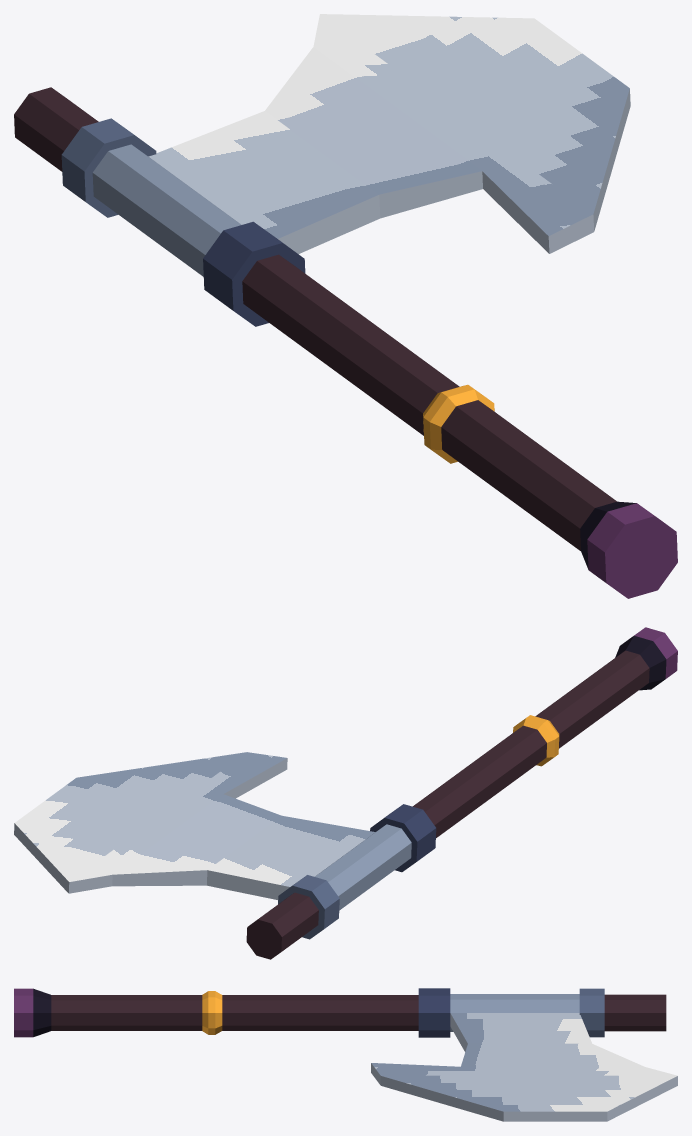
The model's file is axe.glb.
The picture shows the model from 3 angles, top to bottom: view 1: azimuth 30°, elevation 25°; view 2: azimuth 150°, elevation 25°; view 3: azimuth 270°, elevation 25°; orthographic projection. The views are drawn at different scales.
Visible parts, largest first — view 1: Axe; view 2: Axe; view 3: Axe.
Boxes of the visible parts, box(x1,y1,x2,y2) form: Axe: box(14, 14, 677, 598); Axe: box(14, 627, 677, 959); Axe: box(14, 988, 677, 1121).
Size of the model in its own units: 0.677 by 0.1051 by 1.5.
Materials: 1 (1 with a texture image).
